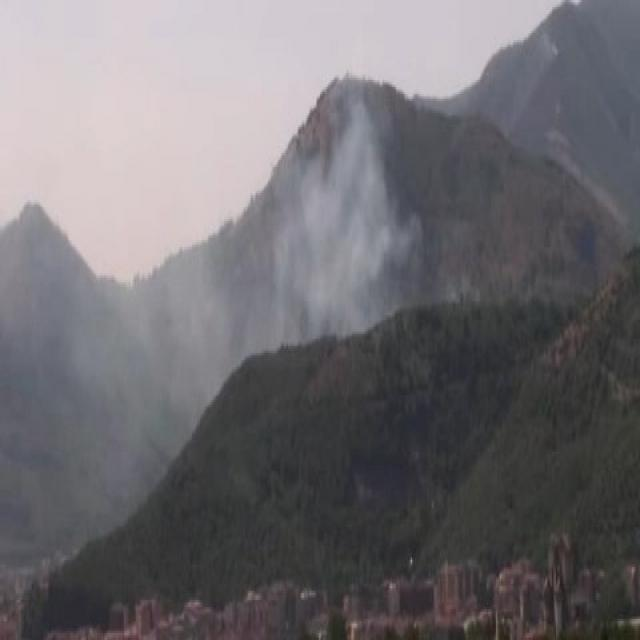smoke: (270, 115, 393, 337), (57, 289, 221, 409)
